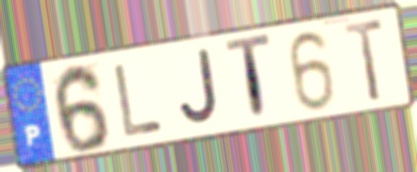6: (49, 60, 113, 156), (287, 27, 338, 114)
J: (177, 46, 223, 128)
L: (111, 61, 166, 140)
T: (222, 30, 274, 125), (341, 16, 387, 106)
